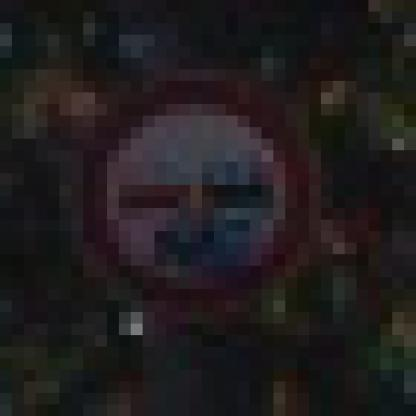No Overtaking: (60, 70, 346, 348)
